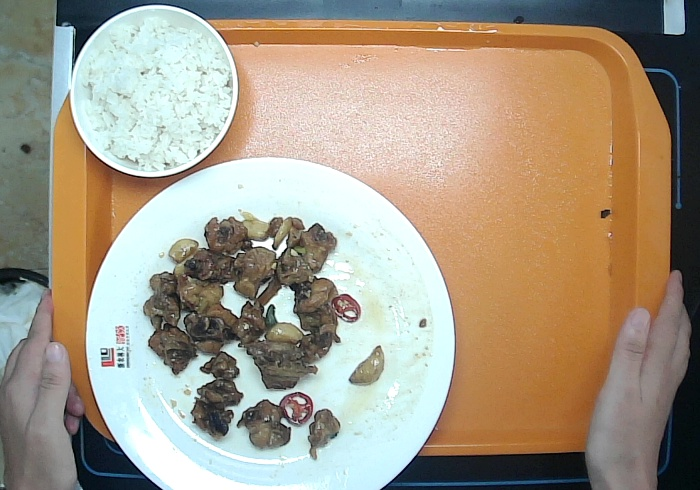ZNLD-Da_Yuan_Pan: (82, 151, 459, 490)
ZNLD-Fan_Wan: (65, 2, 243, 182)
